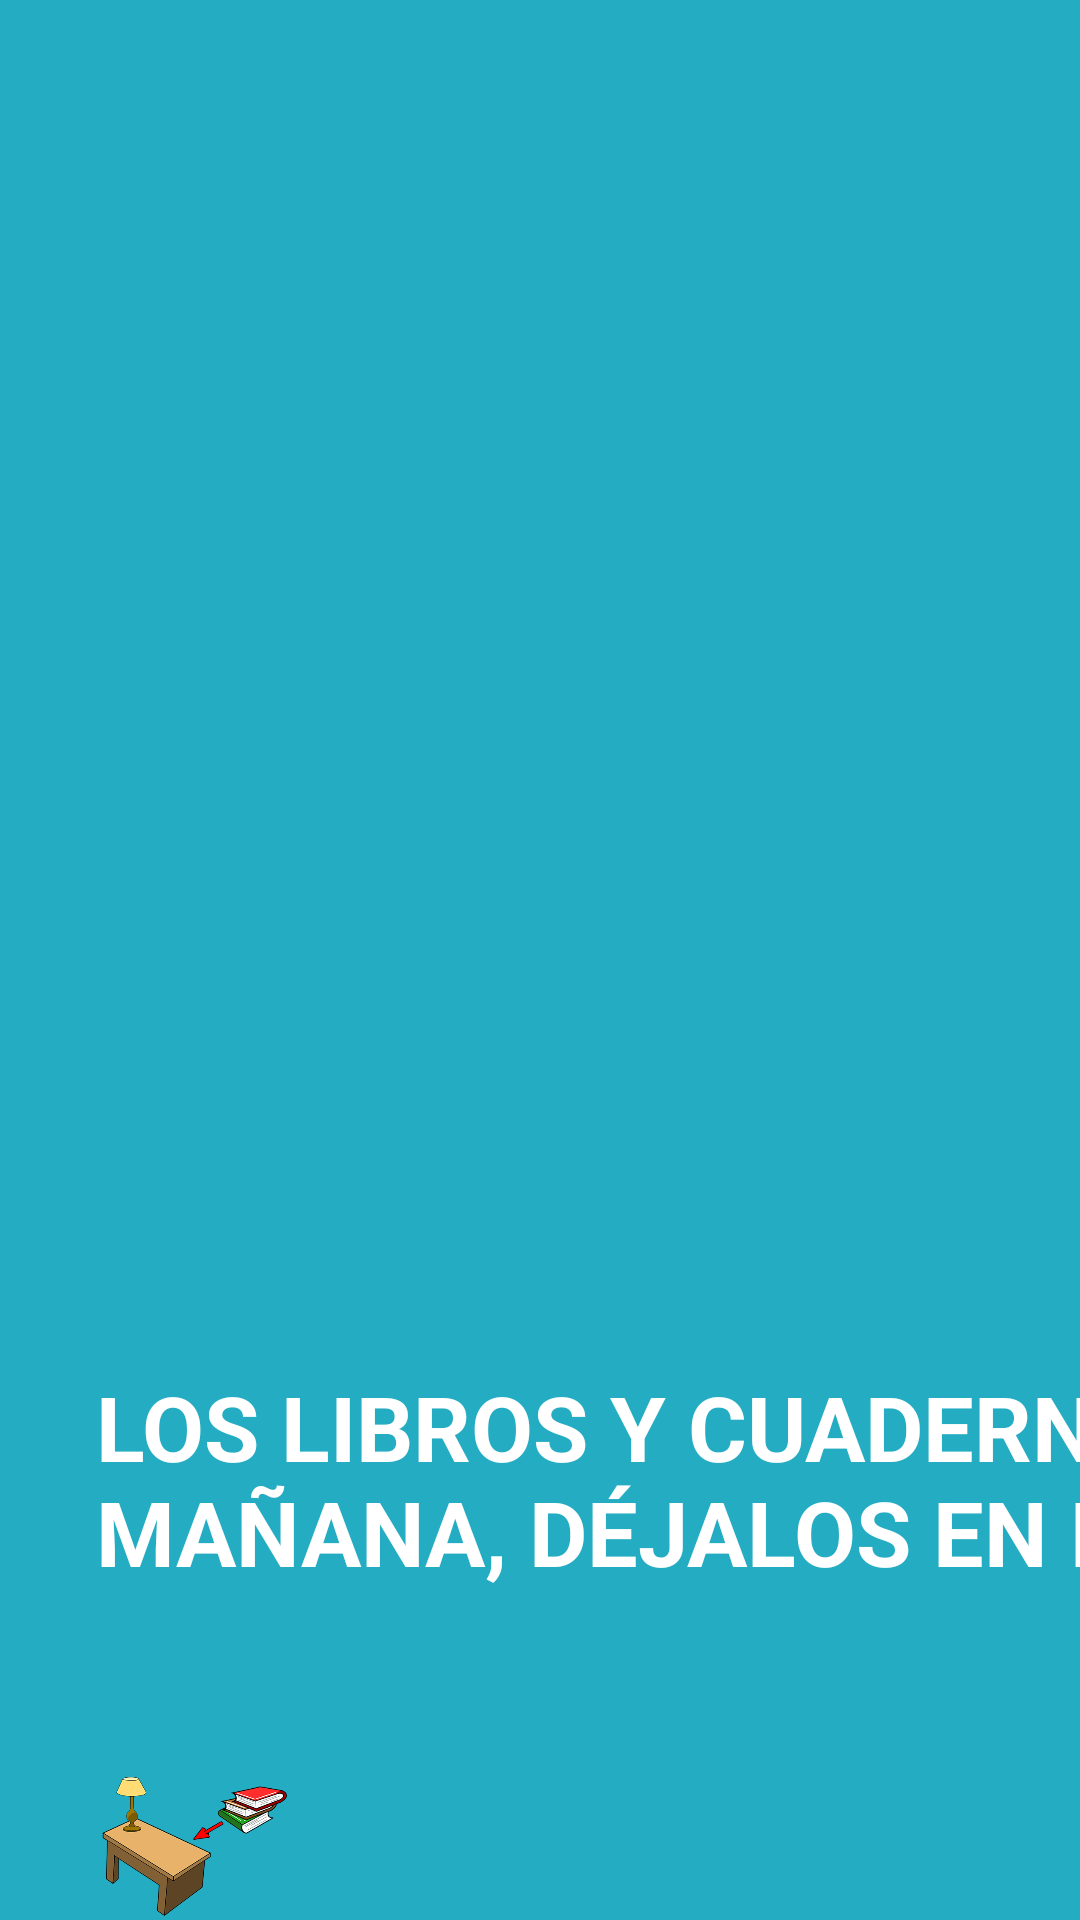

Locate icon controls on the screen. Image size 1080px×1920px, boxes as (x1, y1, x2, y2).
librosescritorio: (102, 1777, 287, 1916)
